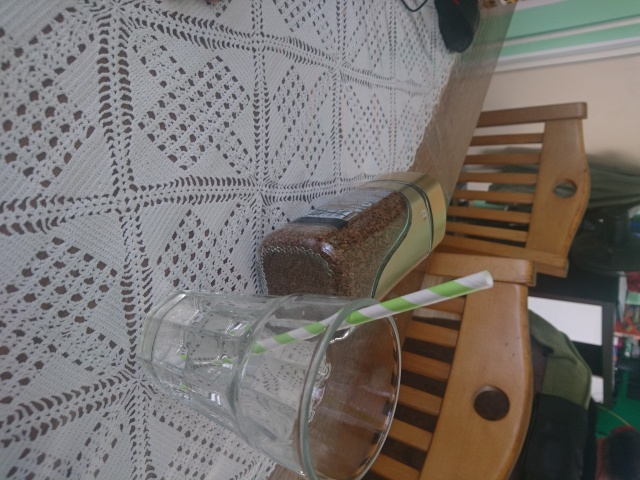Nescafe Gold 225g: (251, 168, 451, 338)
